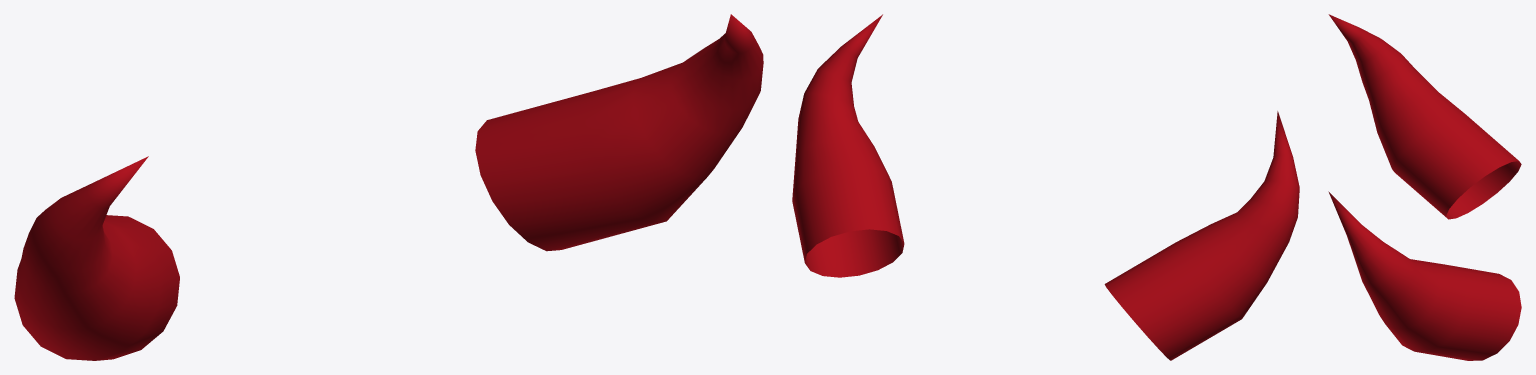
The model's file is horns_devil_basic.glb.
3 renders of one model, left to right at view 1: azimuth 30°, elevation 25°; view 2: azimuth 150°, elevation 25°; view 3: azimuth 270°, elevation 25°, orthographic. The views are drawn at different scales.
Parts seen in each view (by area): view 1: 0.088; view 2: 0.088; view 3: 0.088.
Boxes of the visible parts, x1,y1,x2,y2 form: 0.088: (14,14,763,360); 0.088: (792,14,1299,360); 0.088: (1328,14,1521,360).
Size of the model in its own units: 0.3389 by 0.1326 by 0.1261.
